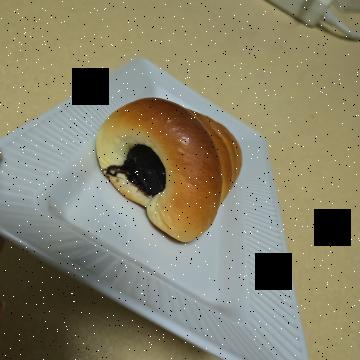cream horn: (69, 105, 246, 270)
